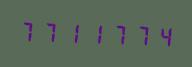four: (149, 21, 170, 49)
one: (61, 18, 82, 46), (83, 19, 104, 47)
seven: (105, 20, 126, 48), (17, 17, 38, 44), (39, 18, 60, 45), (127, 21, 148, 48)
